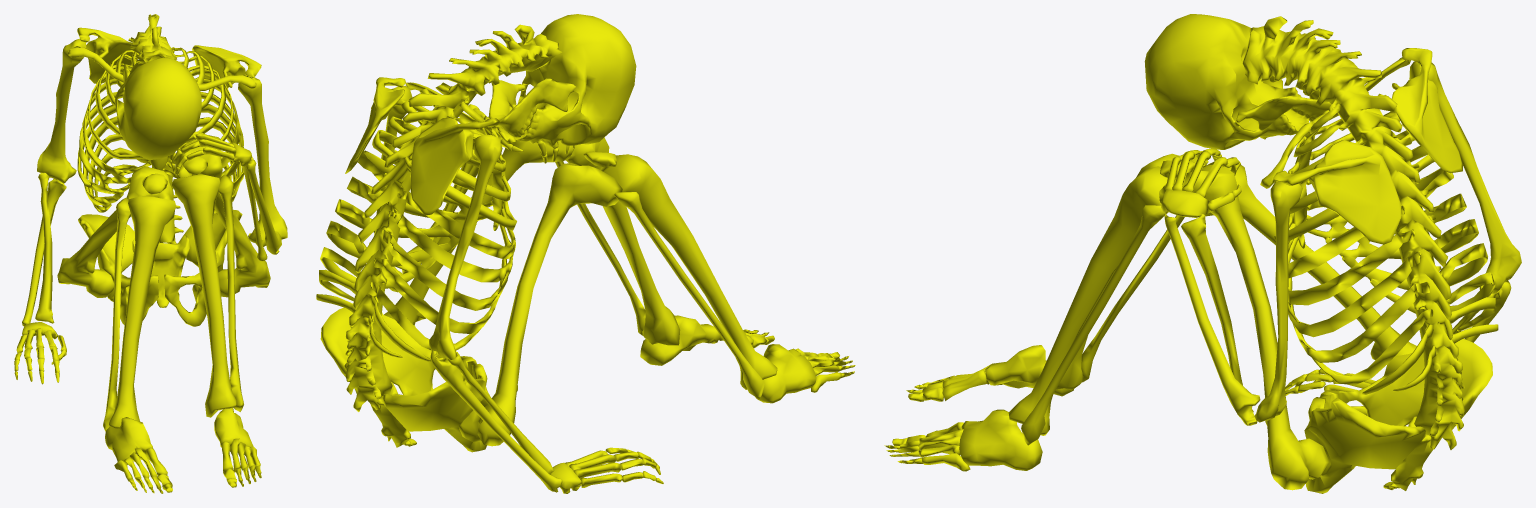
Rendered from skeleton1.fbx.
The picture shows the model from 3 angles, left to right: view 1: azimuth 30°, elevation 25°; view 2: azimuth 150°, elevation 25°; view 3: azimuth 270°, elevation 25°; orthographic projection. The views are drawn at different scales.
Visible parts, largest first — view 1: skeleton1; view 2: skeleton1; view 3: skeleton1.
Boxes of the visible parts, bbox=[...] form: skeleton1: bbox=[14, 14, 287, 493]; skeleton1: bbox=[316, 14, 855, 493]; skeleton1: bbox=[884, 14, 1521, 493].
Size of the model in its own units: 2.65 by 3.2 by 3.94.
